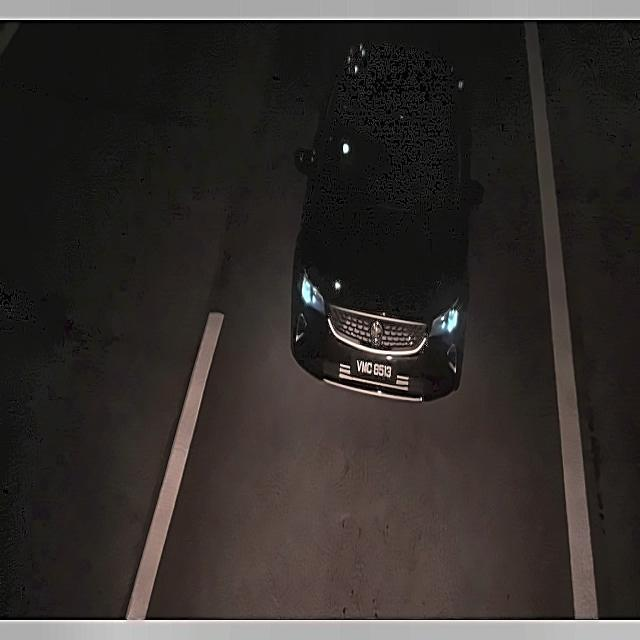car: (347, 348, 403, 392)
